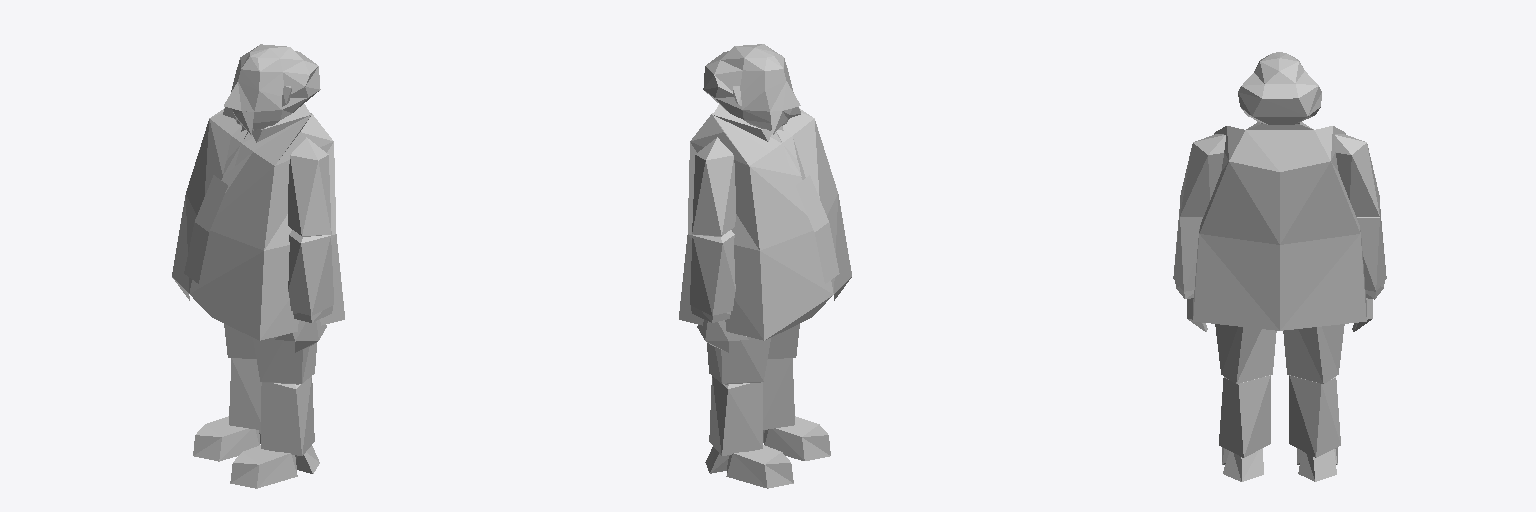
Rendered from Statue.obj.
The picture shows the model from 3 angles: view 1: azimuth 30°, elevation 25°; view 2: azimuth 150°, elevation 25°; view 3: azimuth 270°, elevation 25°; orthographic projection.
Parts seen in each view (by area): view 1: object_012F498C, object_012F45A0, object_012F5C6C, object_012F4A00, object_012F4A88, object_012F4518, object_012F4600, object_012F42C4, object_012F4324, object_012F55CC, object_012F4868, object_012F4AE8 (+1 smaller); view 2: object_012F498C, object_012F5C6C, object_012F42C4, object_012F4CC8, object_012F4D50, object_012F4228, object_012F4324, object_012F45A0, object_012F4600, object_012F55CC, object_012F4868, object_012F4DB0 (+1 smaller); view 3: object_012F498C, object_012F45A0, object_012F42C4, object_012F55CC, object_012F4518, object_012F4228, object_012F4CC8, object_012F4A00, object_012F4D50, object_012F4A88, object_012F5C6C.
Part boxes in pixels (x1,y1,x2,y2): object_012F498C: (172,104,344,340); object_012F45A0: (261,376,319,473); object_012F5C6C: (224,44,303,130); object_012F4A00: (288,137,331,236); object_012F4A88: (288,230,333,322); object_012F4518: (253,337,316,384); object_012F4600: (230,445,297,488); object_012F42C4: (229,358,261,443); object_012F4324: (193,416,259,461); object_012F55CC: (223,51,320,135); object_012F4868: (184,175,227,283); object_012F4AE8: (275,319,326,352); object_012F498C: (679,104,851,340); object_012F5C6C: (721,44,800,130); object_012F42C4: (705,376,762,473); object_012F4CC8: (692,137,735,236); object_012F4D50: (690,230,735,322); object_012F4228: (707,337,770,384); object_012F4324: (726,445,793,488); object_012F45A0: (763,358,794,442); object_012F4600: (764,416,830,460); object_012F55CC: (703,51,800,134); object_012F4868: (796,175,839,283); object_012F4DB0: (697,319,748,352); object_012F498C: (1193,122,1366,330); object_012F45A0: (1219,375,1270,481); object_012F42C4: (1289,375,1340,481); object_012F55CC: (1238,71,1321,124); object_012F4518: (1215,324,1276,383); object_012F4228: (1283,324,1344,383); object_012F4CC8: (1334,134,1379,216); object_012F4A00: (1180,134,1225,216); object_012F4D50: (1357,209,1386,299); object_012F4A88: (1173,209,1202,298); object_012F5C6C: (1254,52,1304,123).
Size of the model in its own units: 5.24 by 15.46 by 7.3.